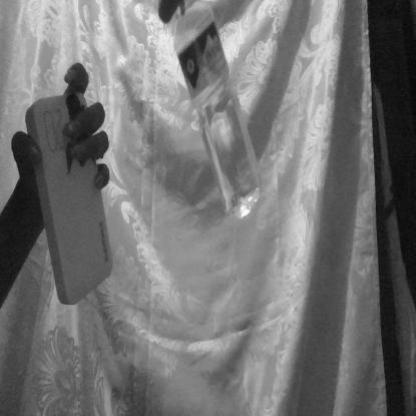Plastic Bottle: (152, 0, 266, 220)
